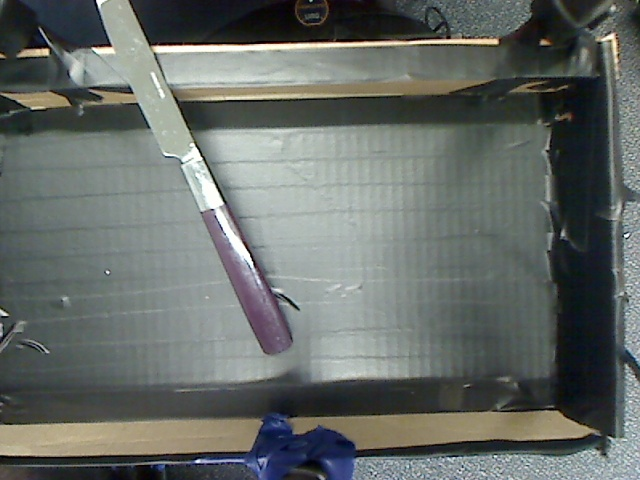knife: (89, 1, 309, 353)
